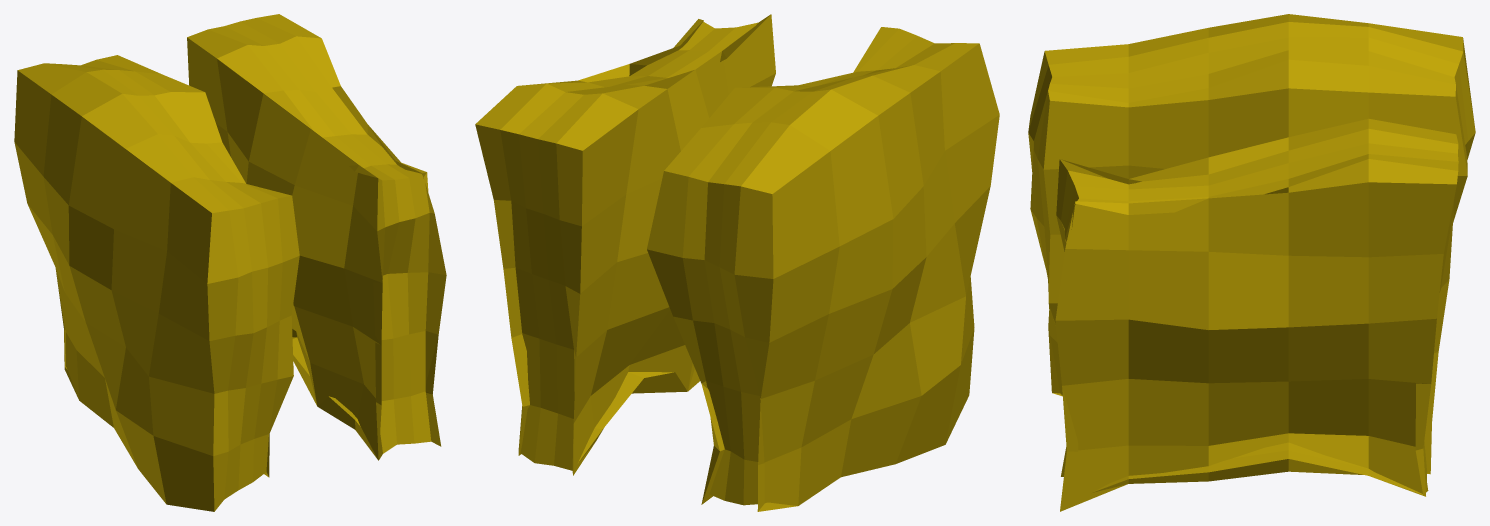
Rendered from Wheat.fbx.
3 views of the same model, side by side, from view 1: azimuth 30°, elevation 25°; view 2: azimuth 150°, elevation 25°; view 3: azimuth 270°, elevation 25° (orthographic). The views are drawn at different scales.
Parts seen in each view (by area): view 1: Wheat; view 2: Wheat; view 3: Wheat.
Part boxes in pixels (x1,y1,x2,y2): Wheat: (14, 14, 446, 511); Wheat: (475, 14, 999, 511); Wheat: (1028, 14, 1475, 511).
Bounding box in the file's own units: 152 × 176 × 181.
